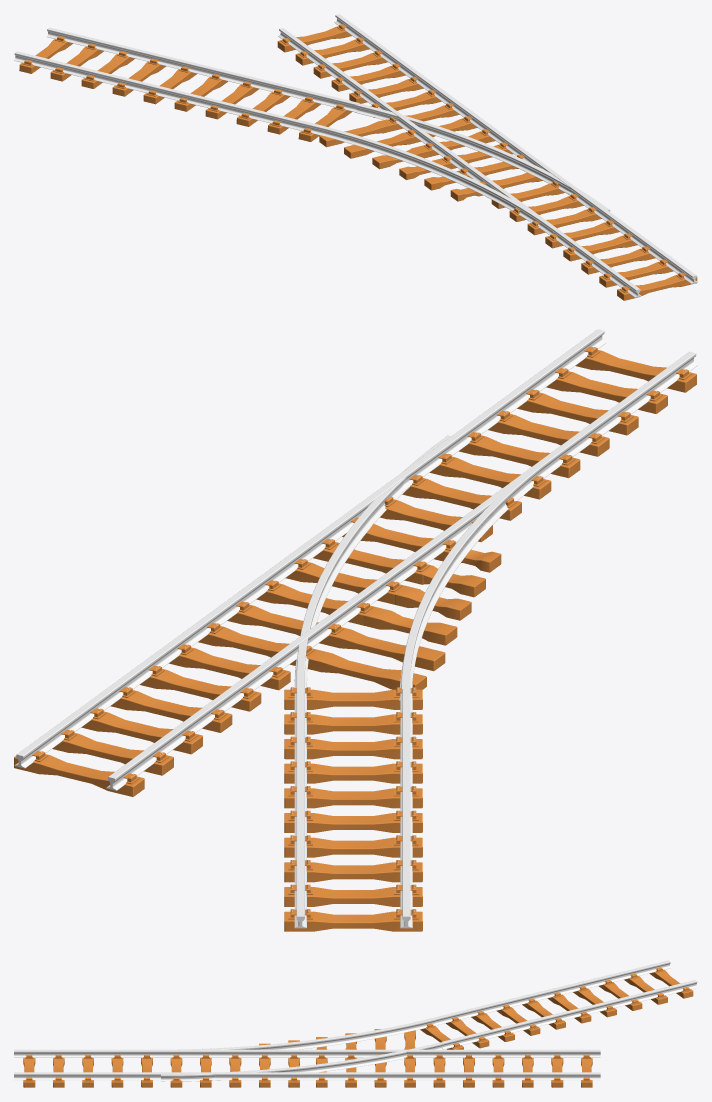
Rendered from 分叉铁轨.fbx.
3 renders of one model, top to bottom at view 1: azimuth 30°, elevation 25°; view 2: azimuth 150°, elevation 25°; view 3: azimuth 270°, elevation 25°, orthographic. The views are drawn at different scales.
Parts seen in each view (by area): view 1: 分叉后1_2; view 2: 分叉后1_2; view 3: 分叉后1_2.
Boxes of the visible parts, x1,y1,x2,y2 form: 分叉后1_2: [14, 14, 697, 300]; 分叉后1_2: [14, 329, 697, 931]; 分叉后1_2: [14, 960, 697, 1087].
Size of the model in its own units: 1878 by 82.74 by 4647.
